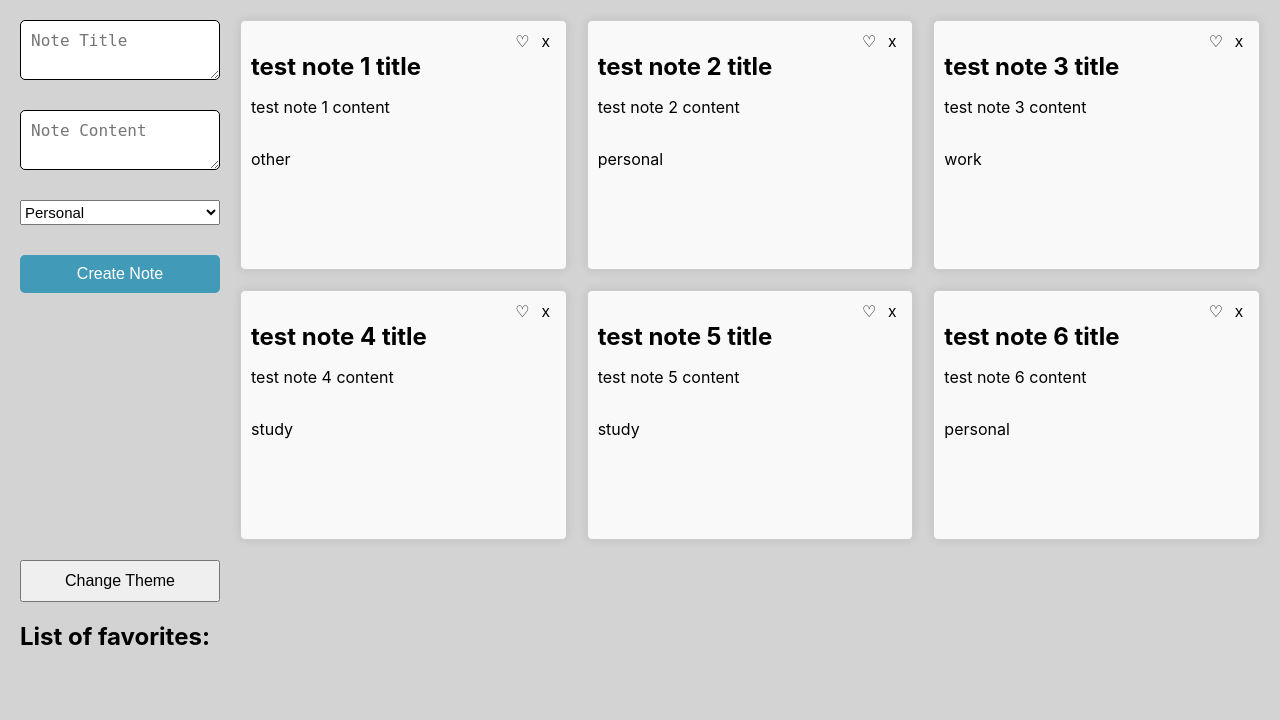
Test: Delete StickyNote › Deletes a liked note
The image size is (1280, 720).
Note: Choose first note's like button
Click the 1st button "♡".
click(522, 42)  # box [509, 31, 536, 52]
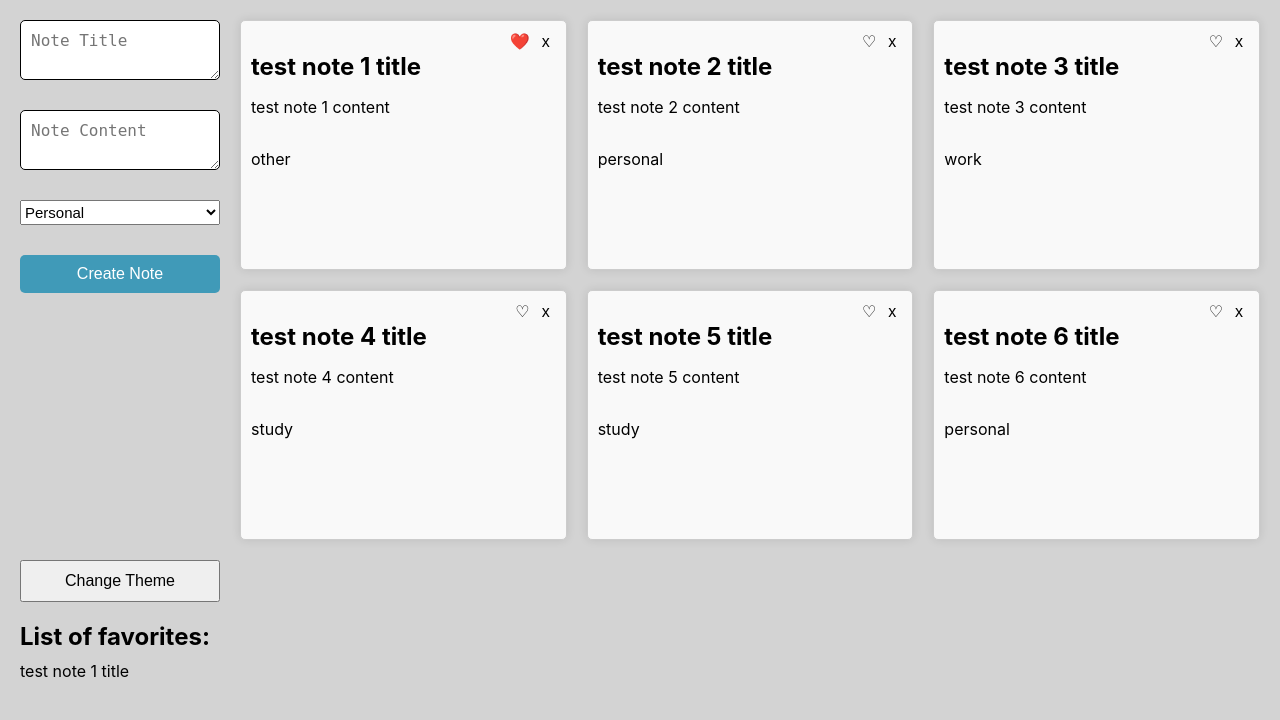
expect the number of headings "test note 1 title" is 2: met, box [251, 52, 421, 81]; [20, 661, 129, 681]
Note: Choose first note's delete button
Click the 1st button "x".
click(546, 42)  # box [536, 31, 556, 52]
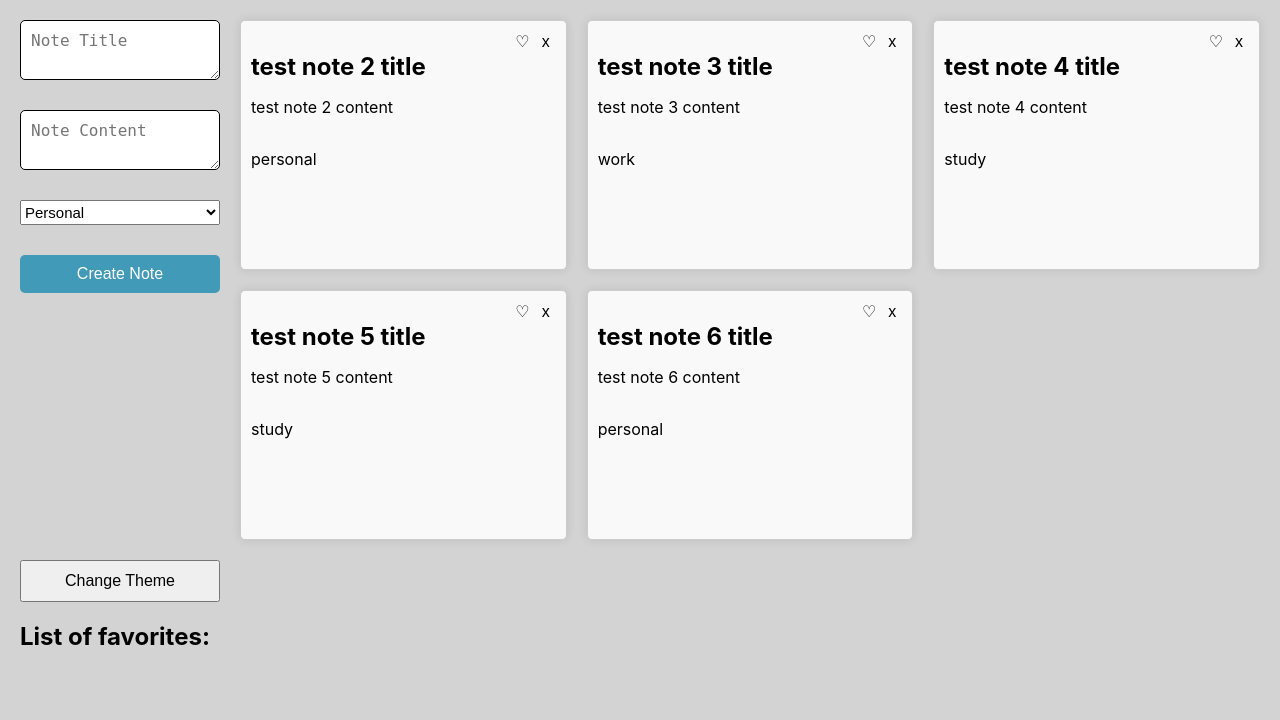
expect the heading "test note 1 title" is gone: met
